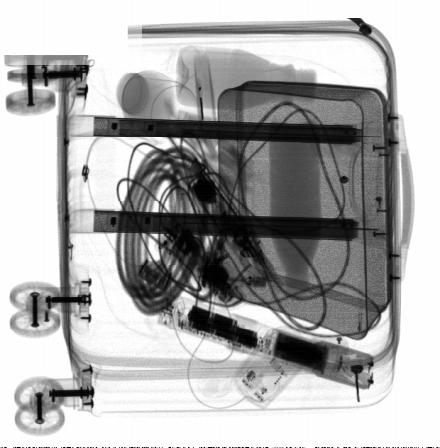Baton: (157, 292, 375, 390)
